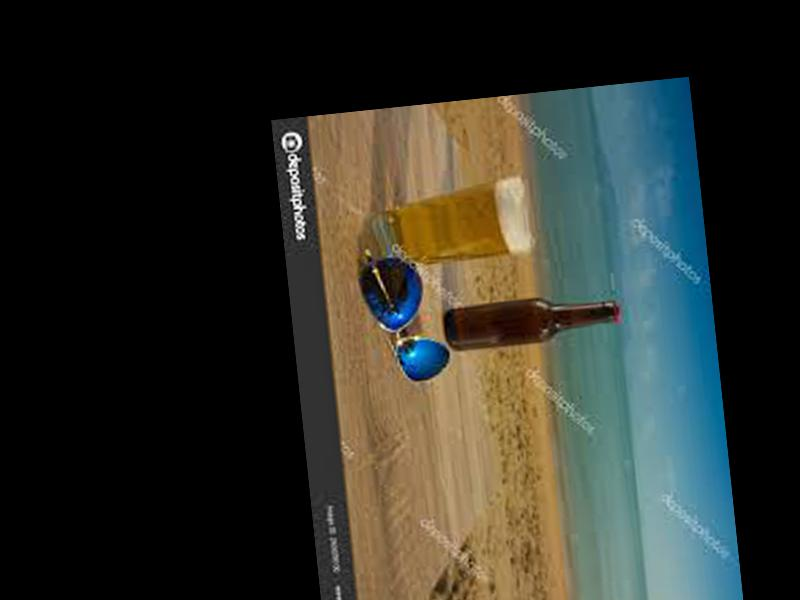Beer: (444, 289, 622, 352)
